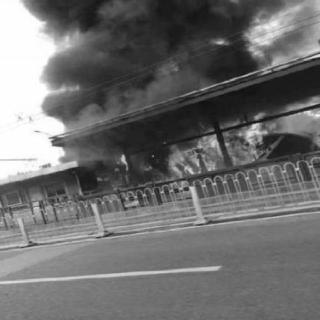Smoke: (41, 0, 262, 128)
